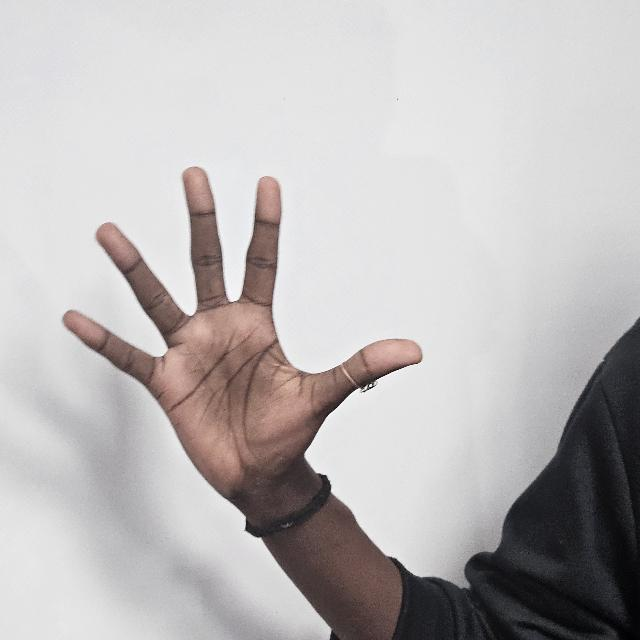X: (62, 163, 424, 542)
